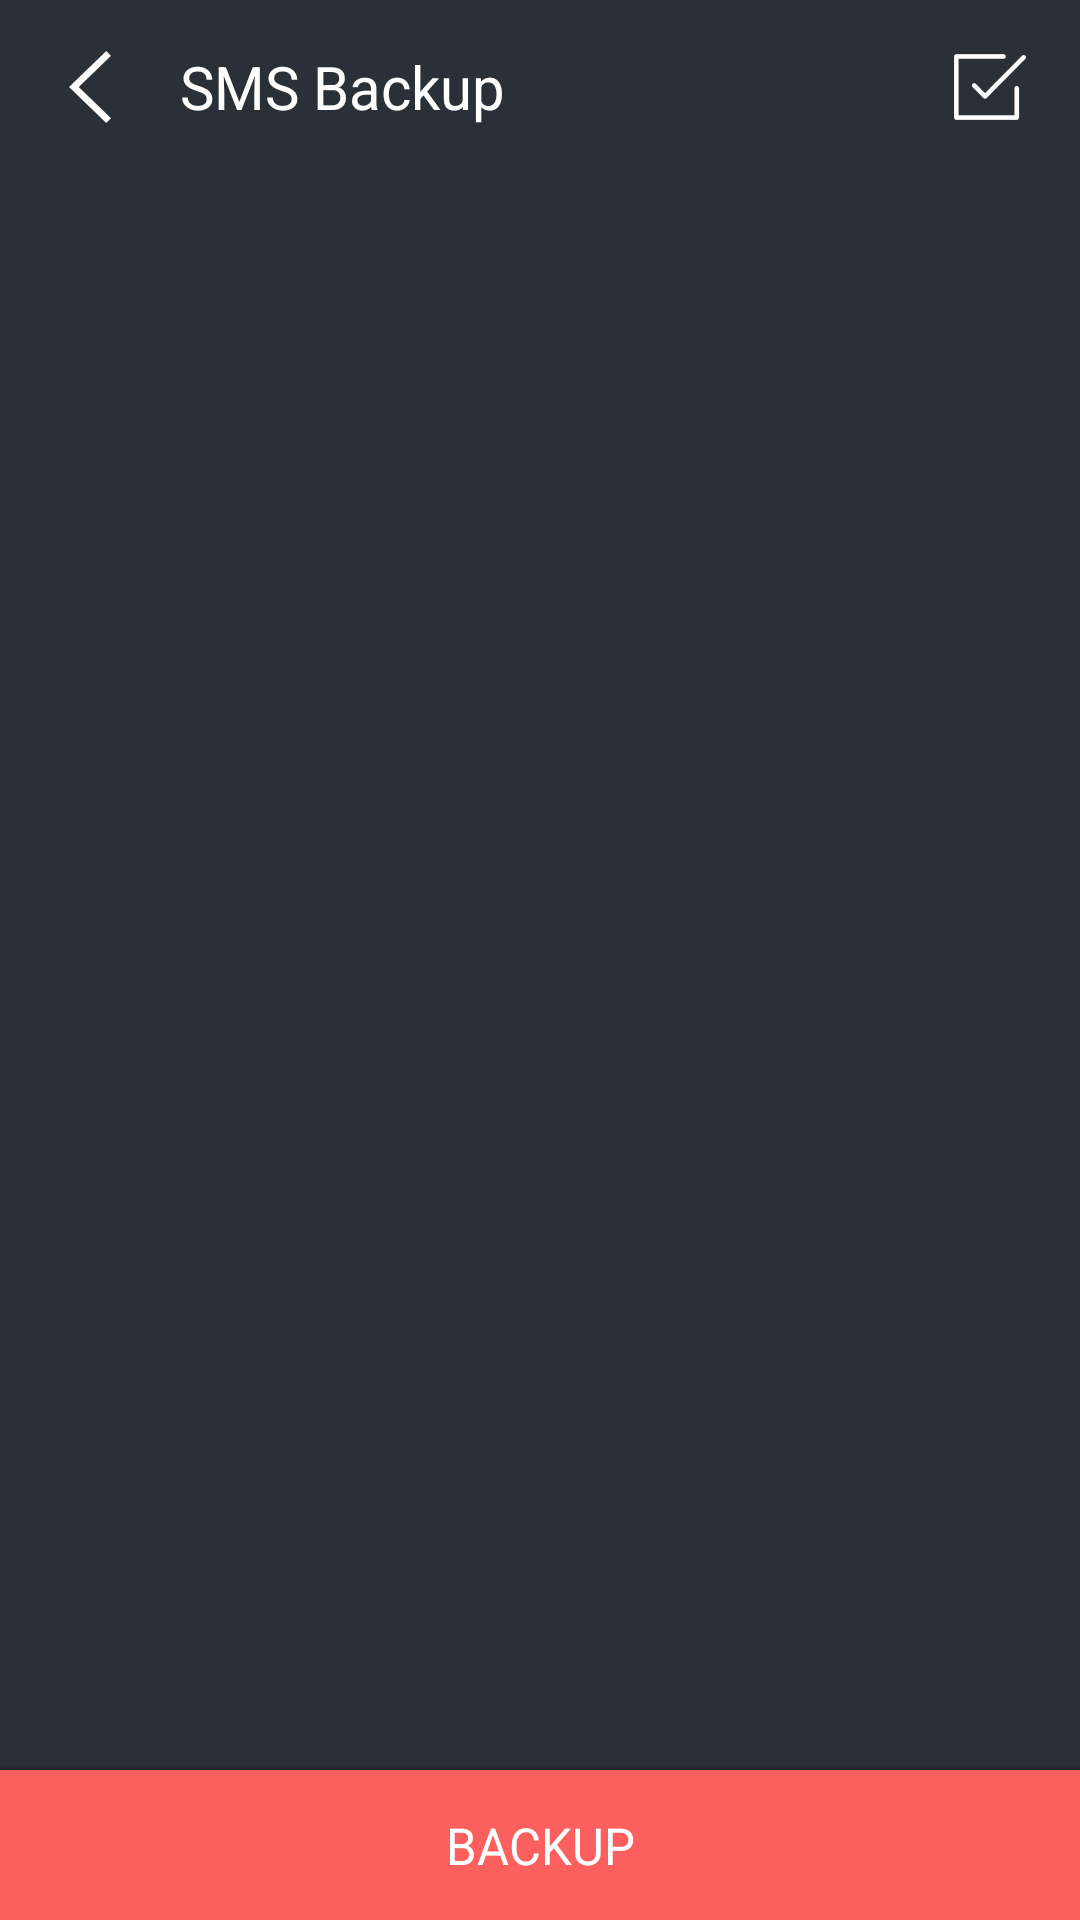

Screen size 1080w x 1920h. Icon name, then its box in pixels as (x1, y1, x2, y2):
back activity: (69, 51, 111, 123)
check box: (954, 54, 1026, 120)
